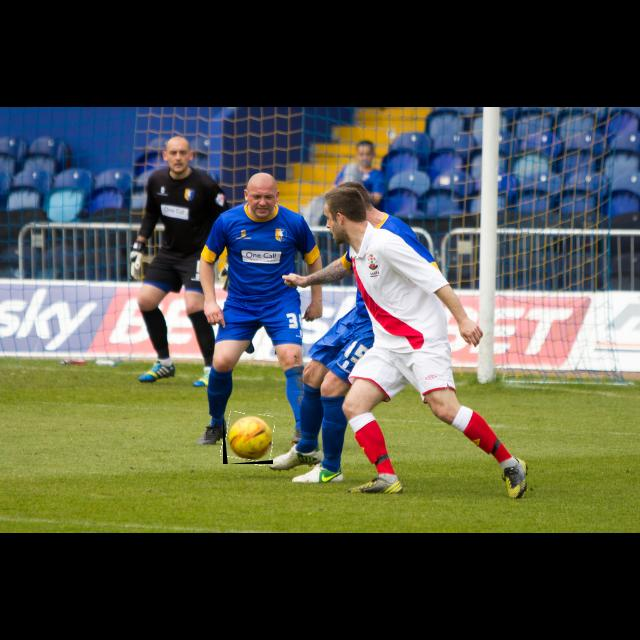Football: (223, 414, 273, 464)
